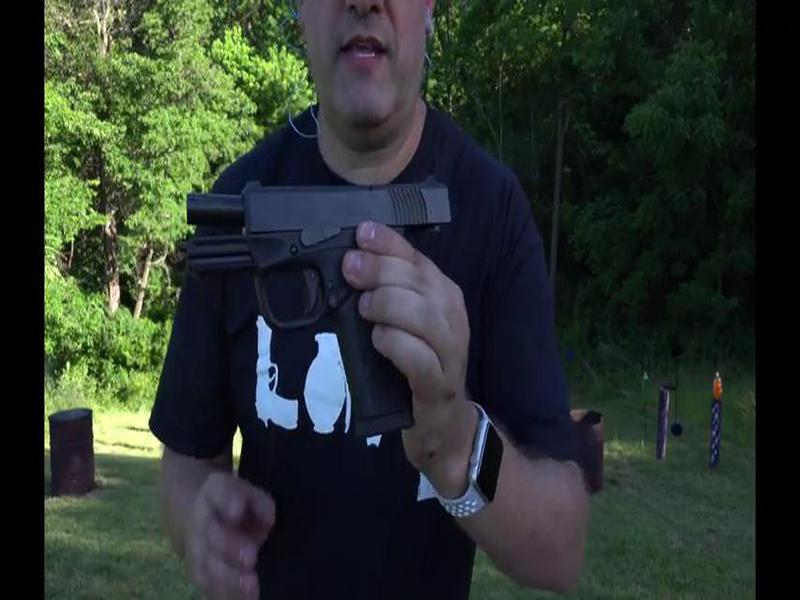Pistola: (175, 169, 455, 441)
